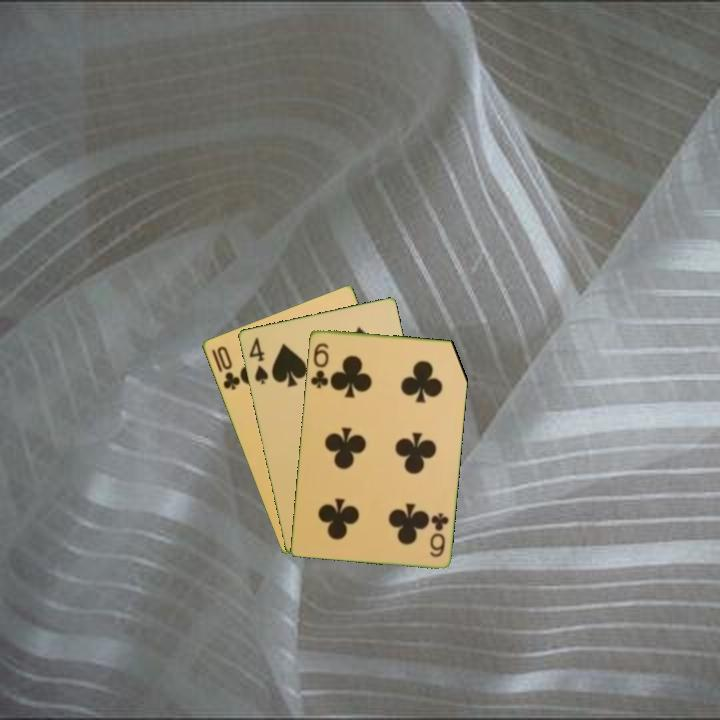10c: (208, 342, 243, 393)
4s: (245, 333, 271, 387)
6c: (426, 509, 451, 560), (307, 339, 331, 391)
